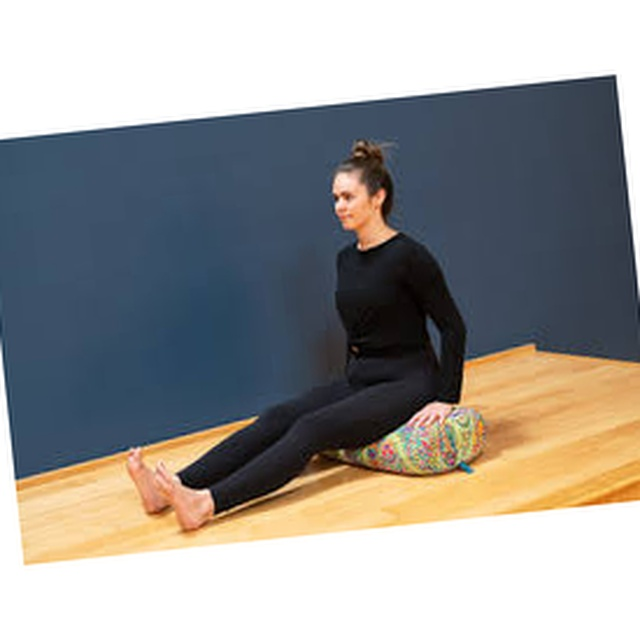Staff_Pose: (122, 138, 468, 534)
